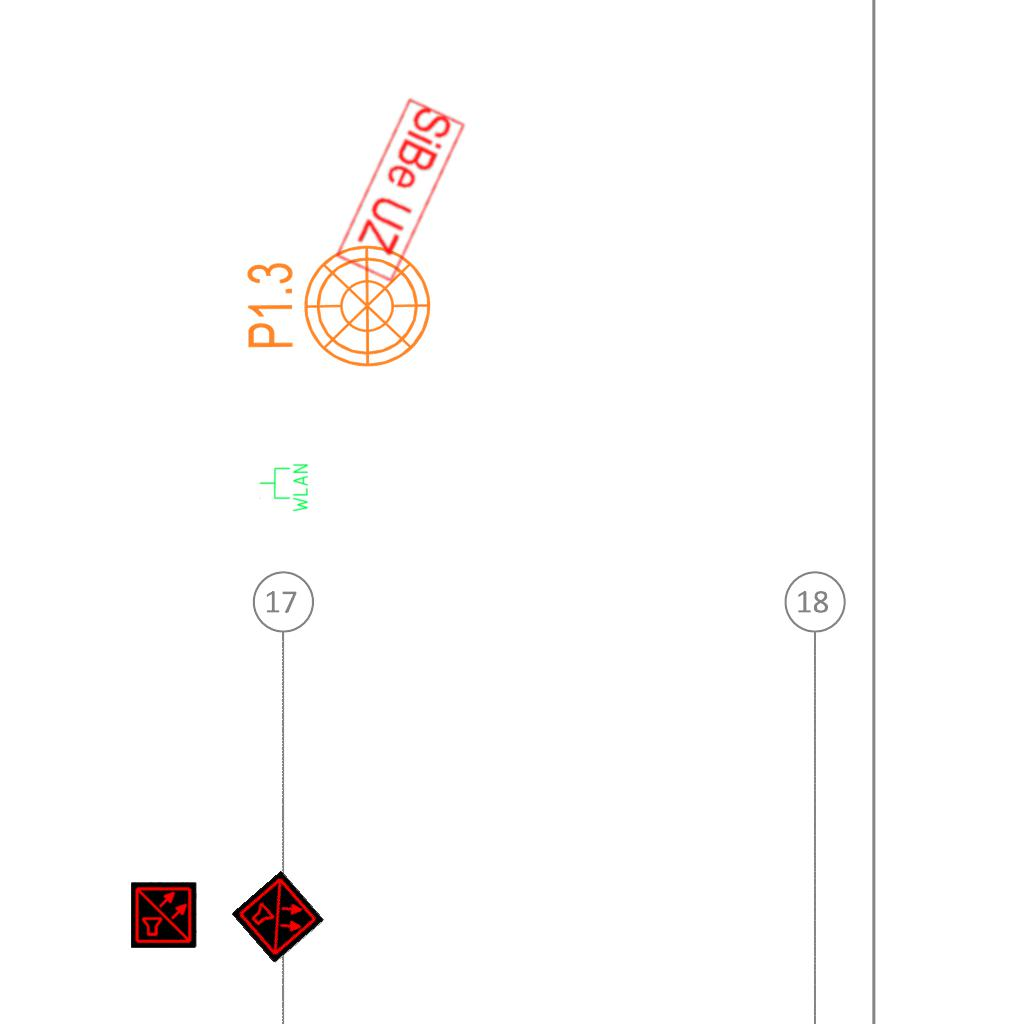Aufbaurundleuchte_LED_Treppenhaus: (229, 231, 434, 370)
OKW_Multisensormelder_(Kombination_optischer_Rauch-Kahlenmonoxid_Waerme-Melder): (231, 870, 325, 964), (131, 882, 197, 948)
WLAN: (258, 462, 310, 514)
Zentrale_Sicherheitsbeleuchtung: (332, 96, 468, 285)
